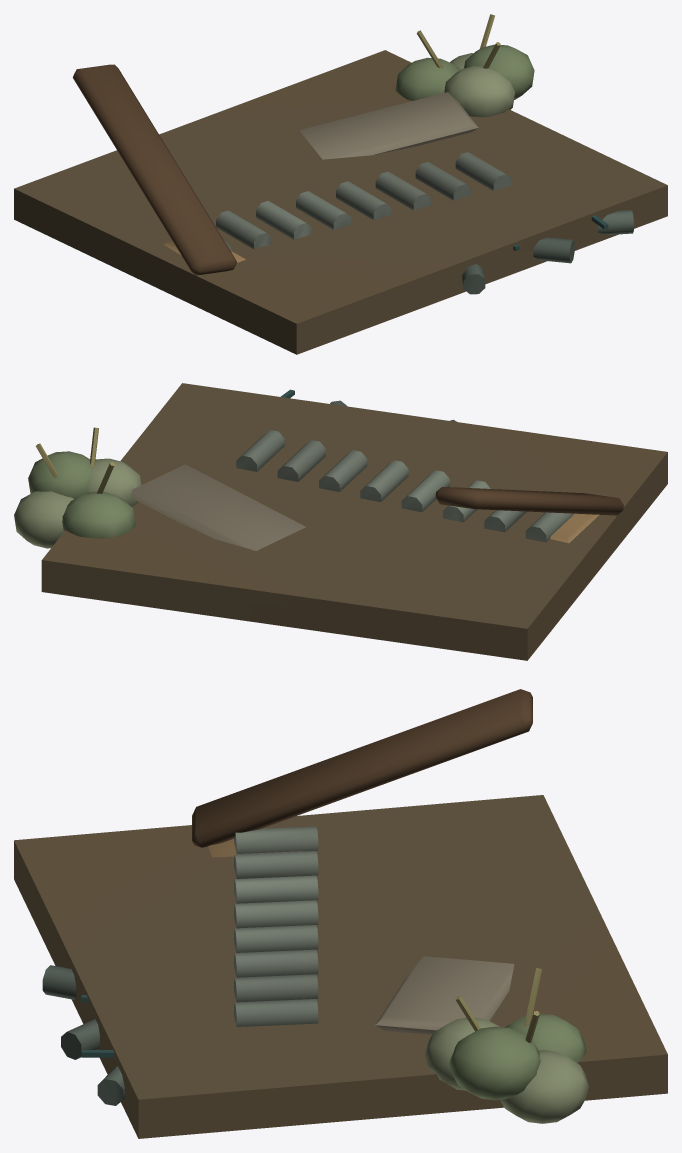
File: core_trays_b.glb
3 views of the same model, one above another, from view 1: azimuth 30°, elevation 25°; view 2: azimuth 150°, elevation 25°; view 3: azimuth 270°, elevation 25° (orthographic). The views are drawn at different scales.
Visible parts, largest first — view 1: Surface; view 2: Surface; view 3: Surface.
Part boxes in pixels (x1=…): Surface: x1=14, y1=14, x2=667, y2=354; Surface: x1=14, y1=383, x2=667, y2=660; Surface: x1=14, y1=689, x2=667, y2=1138.
Size of the model in its own units: 3.36 by 0.9431 by 3.03.
